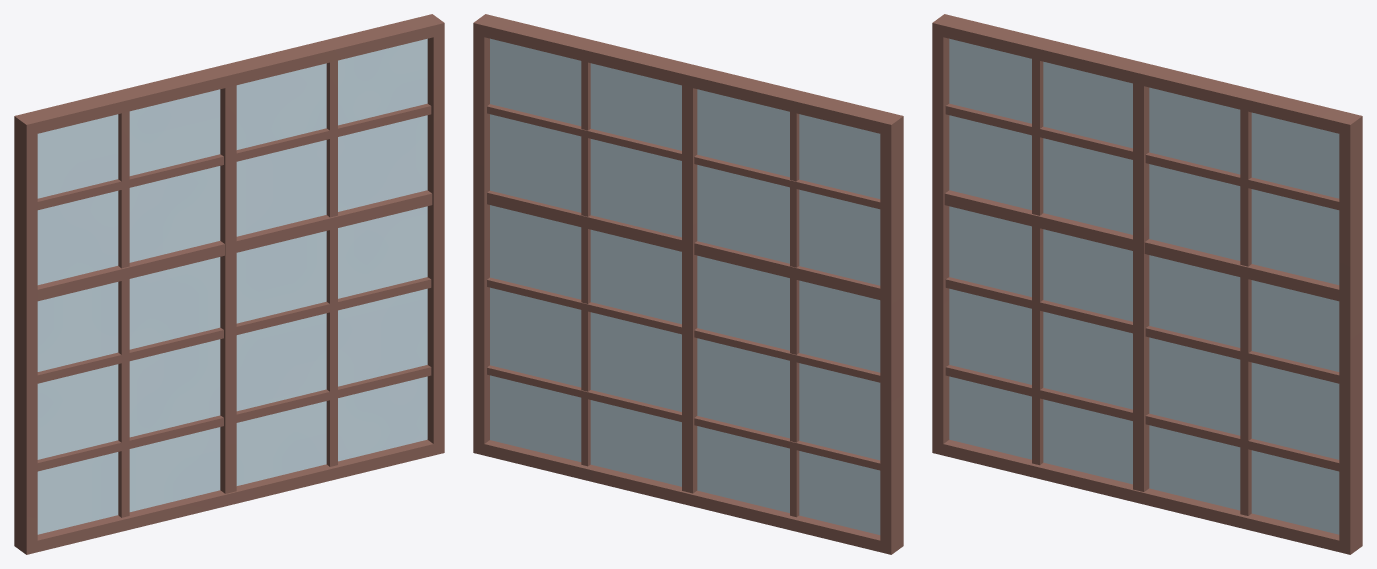
File: window_033.fbx
The picture shows the model from 3 angles, left to right: view 1: azimuth 30°, elevation 25°; view 2: azimuth 150°, elevation 25°; view 3: azimuth 330°, elevation 25°; orthographic projection.
Visible parts, largest first — view 1: window_033; view 2: window_033; view 3: window_033.
Boxes of the visible parts, x1,y1,x2,y2 form: window_033: [14, 14, 444, 554]; window_033: [473, 14, 903, 554]; window_033: [932, 14, 1362, 554].
Bounding box in the file's own units: 240 × 12.16 × 236.
